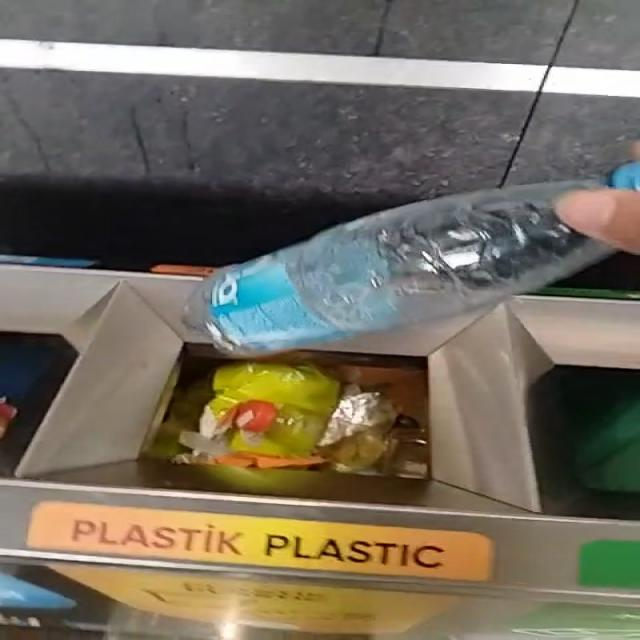plastic: (188, 180, 615, 354), (188, 180, 613, 354)
